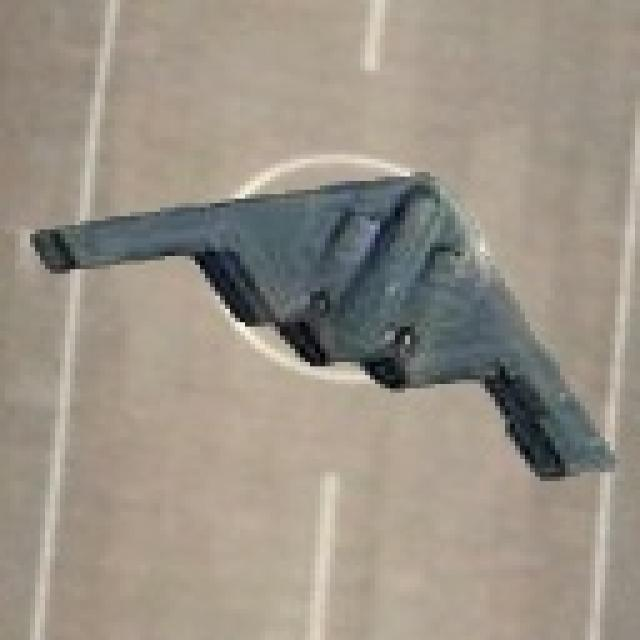B-2_TopDown: (25, 146, 620, 486)
